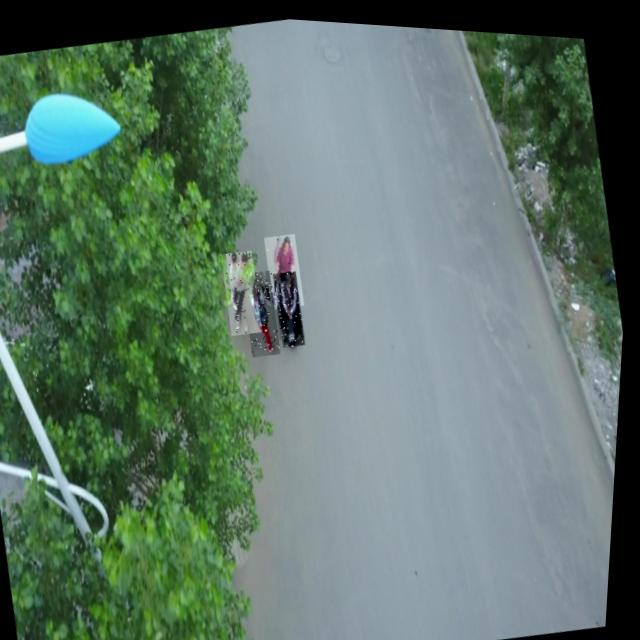Person: (220, 245, 270, 334), (241, 265, 289, 355), (263, 228, 311, 307), (273, 266, 313, 345)
